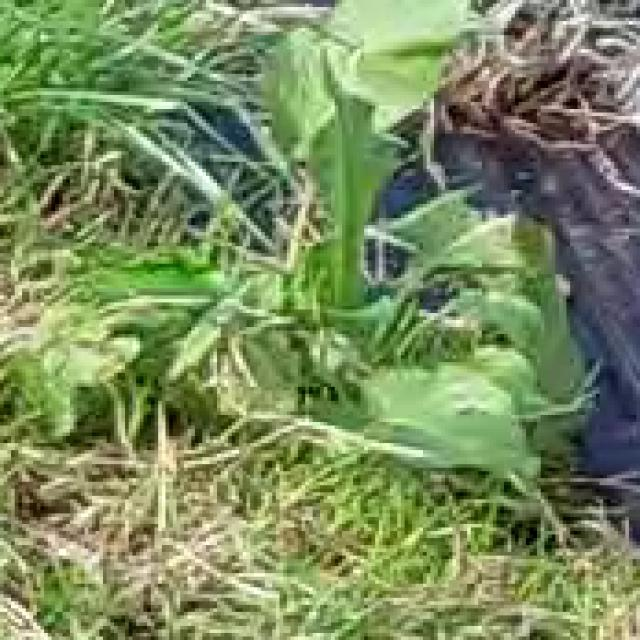organic waste: (214, 14, 610, 503)
